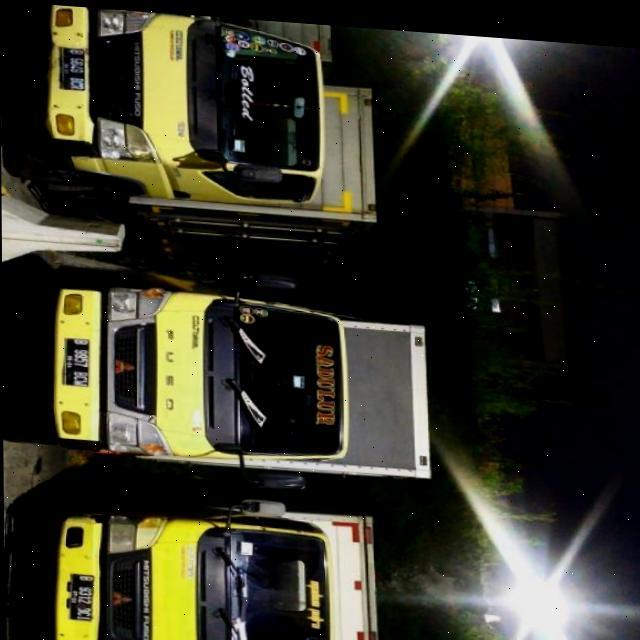truck: (30, 2, 402, 252), (47, 278, 442, 476), (39, 485, 392, 640)
